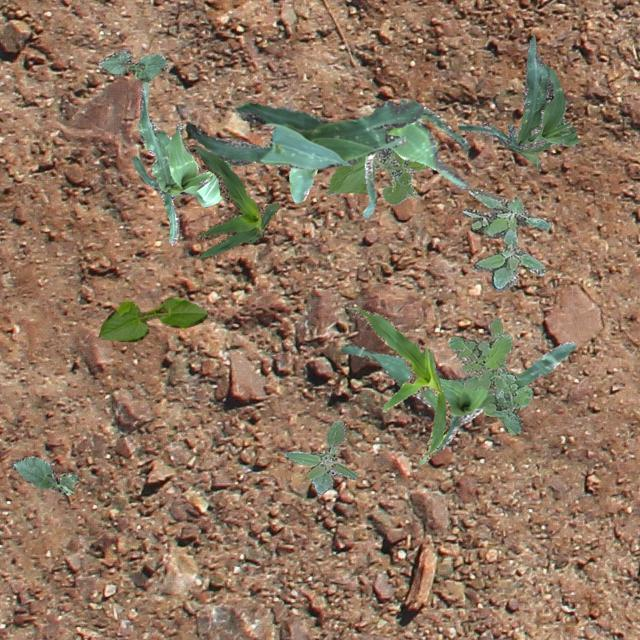crop: (340, 341, 576, 454), (287, 106, 468, 216), (343, 302, 449, 464), (130, 80, 232, 244), (185, 100, 422, 168), (458, 34, 578, 168), (324, 98, 424, 204), (188, 143, 278, 260), (98, 296, 206, 341), (11, 454, 78, 494), (96, 48, 166, 80)
weed: (448, 316, 532, 434), (460, 186, 550, 292), (284, 419, 358, 494)
